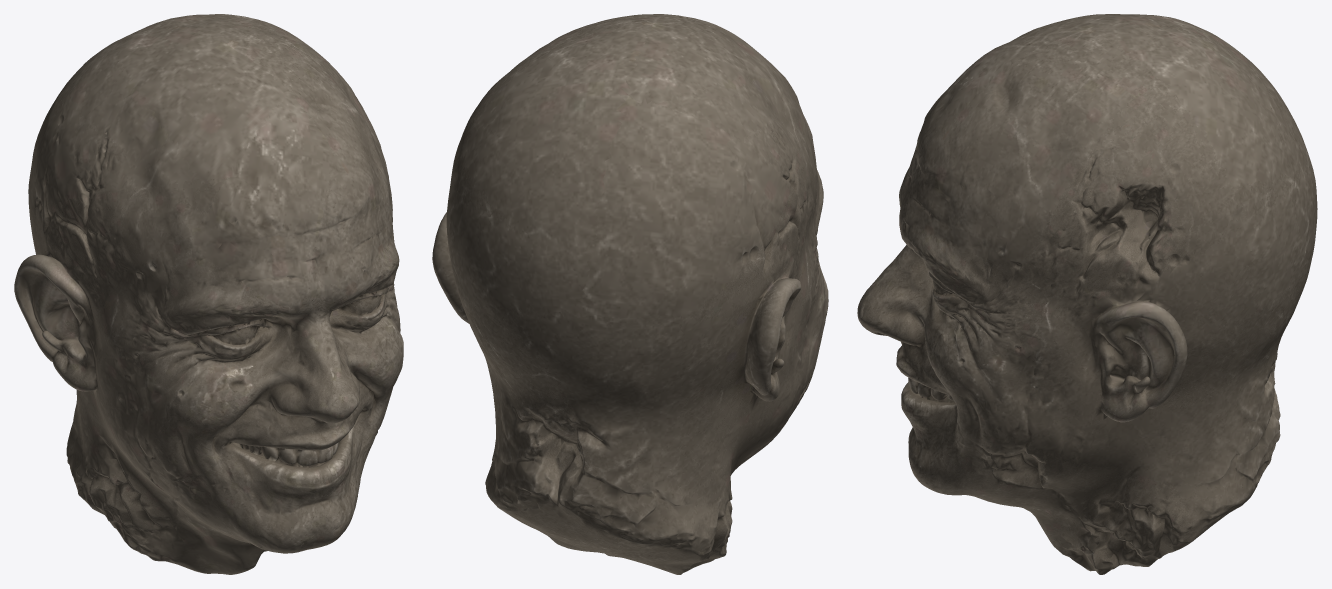
File: Rozitis.glb
3 views of the same model, side by side, from view 1: azimuth 30°, elevation 25°; view 2: azimuth 150°, elevation 25°; view 3: azimuth 270°, elevation 25° (orthographic).
Size of the model in its own units: 1.27 by 1.9 by 1.49.
1 material, 1 textured.
